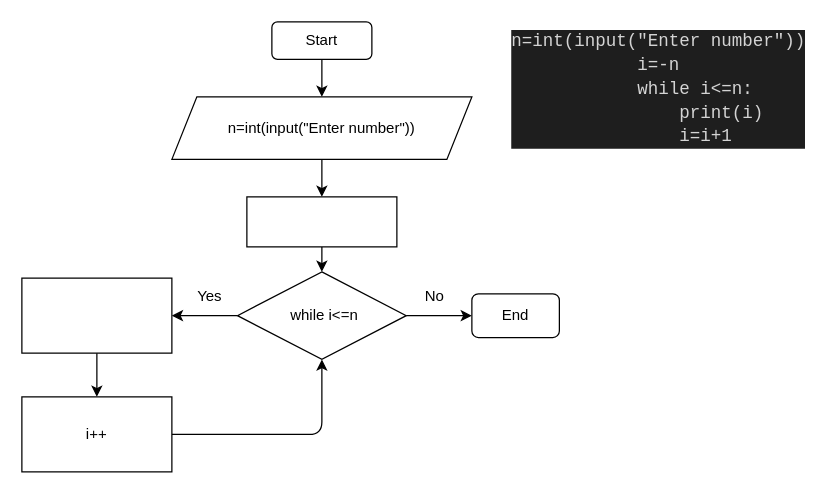
Some shapes in this 831 by 494 pixel diagram are drawn without their labels. The box of each missing label's shape, as (x1, y1, x2, y2) in pixels:
i=-n: (246, 196, 397, 247)
print (i): (21, 277, 172, 353)
